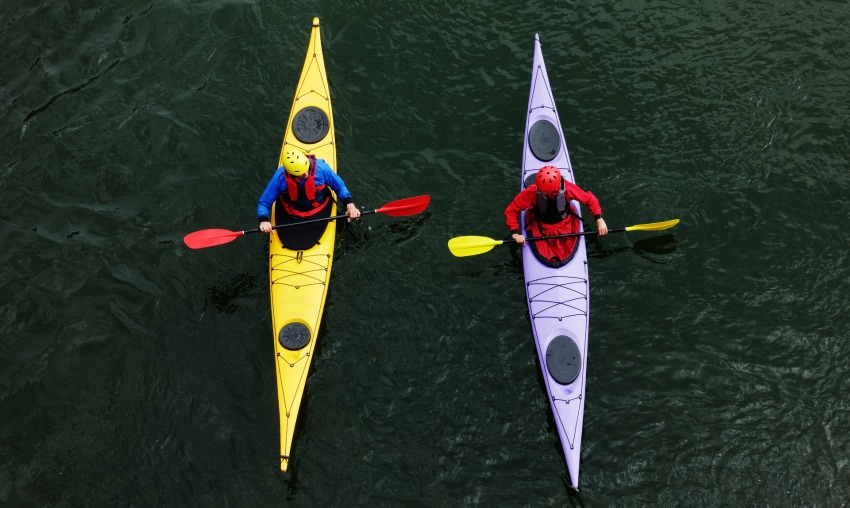kayaker: (181, 16, 434, 480), (446, 31, 682, 493)
